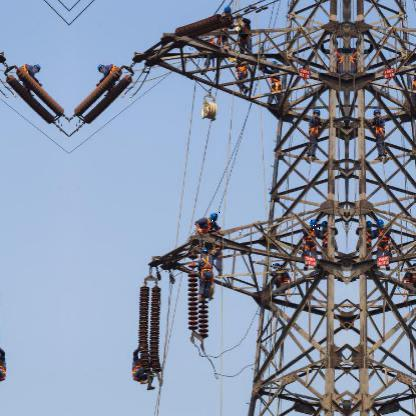safetyhelmet: (311, 217, 322, 232), (208, 212, 222, 222), (272, 262, 284, 270), (226, 6, 232, 16), (321, 222, 328, 230), (96, 63, 103, 70), (272, 59, 278, 65), (202, 248, 206, 254)
